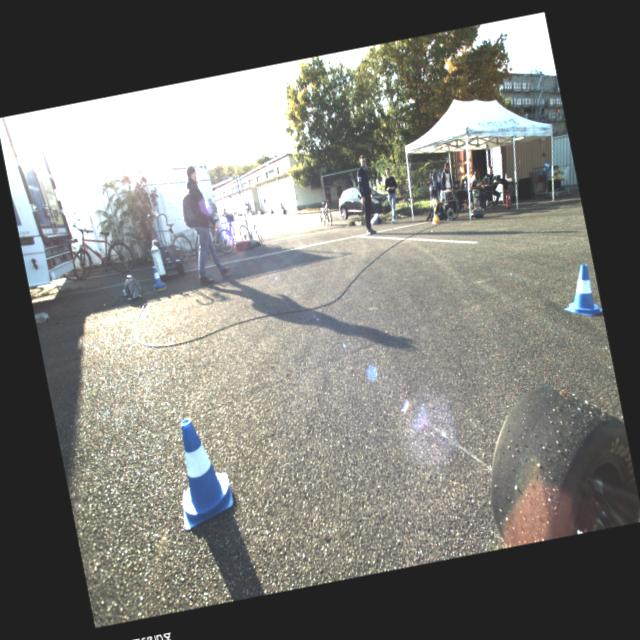blue_cone: (165, 414, 238, 530), (557, 264, 602, 320), (150, 265, 164, 288), (547, 162, 551, 170), (544, 160, 548, 168), (543, 166, 547, 173)
yellow_cone: (430, 207, 440, 220), (560, 168, 564, 178), (558, 168, 562, 177), (555, 169, 559, 177), (552, 170, 556, 178)
